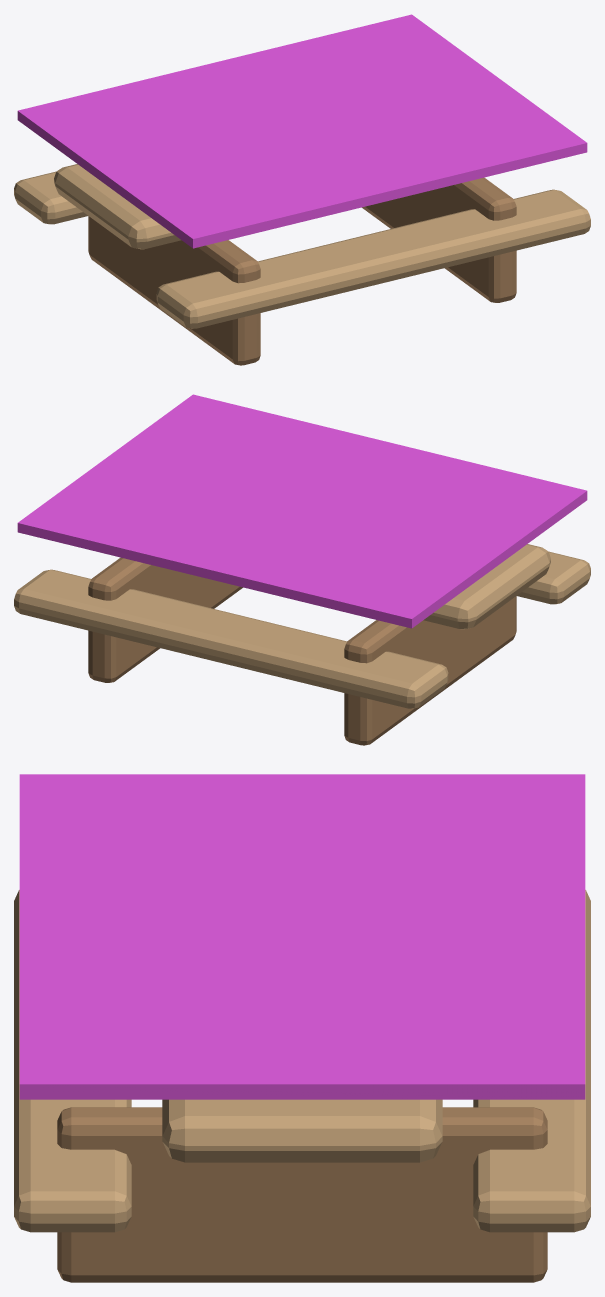
Rendered from picnic_table_lod1_v1.glb.
3 renders of one model, top to bottom at view 1: azimuth 30°, elevation 25°; view 2: azimuth 150°, elevation 25°; view 3: azimuth 270°, elevation 25°, orthographic. The views are drawn at different scales.
Visible parts, largest first — view 1: NAV_MASK_PICNIC_TABLE, LOD1_PICNIC_TABLE_Bench, LOD1_PICNIC_TABLE_Leg, LOD1_PICNIC_TABLE_Leg.001, LOD1_PICNIC_TABLE_Top, LOD1_PICNIC_TABLE_Bench.001; view 2: NAV_MASK_PICNIC_TABLE, LOD1_PICNIC_TABLE_Bench.001, LOD1_PICNIC_TABLE_Leg, LOD1_PICNIC_TABLE_Leg.001, LOD1_PICNIC_TABLE_Top, LOD1_PICNIC_TABLE_Bench; view 3: NAV_MASK_PICNIC_TABLE, LOD1_PICNIC_TABLE_Leg.001, LOD1_PICNIC_TABLE_Top, LOD1_PICNIC_TABLE_Bench, LOD1_PICNIC_TABLE_Bench.001.
Part boxes in pixels (left/top/right/bottom): NAV_MASK_PICNIC_TABLE: left=17, top=14, right=587, bottom=248; LOD1_PICNIC_TABLE_Bench: left=156, top=189, right=590, bottom=328; LOD1_PICNIC_TABLE_Leg: left=88, top=216, right=260, bottom=365; LOD1_PICNIC_TABLE_Leg.001: left=362, top=177, right=516, bottom=302; LOD1_PICNIC_TABLE_Top: left=54, top=164, right=181, bottom=249; LOD1_PICNIC_TABLE_Bench.001: left=14, top=171, right=87, bottom=224; NAV_MASK_PICNIC_TABLE: left=17, top=394, right=587, bottom=628; LOD1_PICNIC_TABLE_Bench.001: left=14, top=569, right=448, bottom=708; LOD1_PICNIC_TABLE_Leg: left=344, top=596, right=516, bottom=745; LOD1_PICNIC_TABLE_Leg.001: left=88, top=557, right=242, bottom=682; LOD1_PICNIC_TABLE_Top: left=423, top=544, right=550, bottom=629; LOD1_PICNIC_TABLE_Bench: left=517, top=551, right=590, bottom=604; NAV_MASK_PICNIC_TABLE: left=19, top=774, right=585, bottom=1099; LOD1_PICNIC_TABLE_Leg.001: left=57, top=1107, right=547, bottom=1282; LOD1_PICNIC_TABLE_Top: left=162, top=1099, right=442, bottom=1162; LOD1_PICNIC_TABLE_Bench: left=14, top=890, right=131, bottom=1232; LOD1_PICNIC_TABLE_Bench.001: left=473, top=890, right=590, bottom=1232.
Size of what is drawn, in the model's own units: 2.8 by 0.975 by 2.06.
